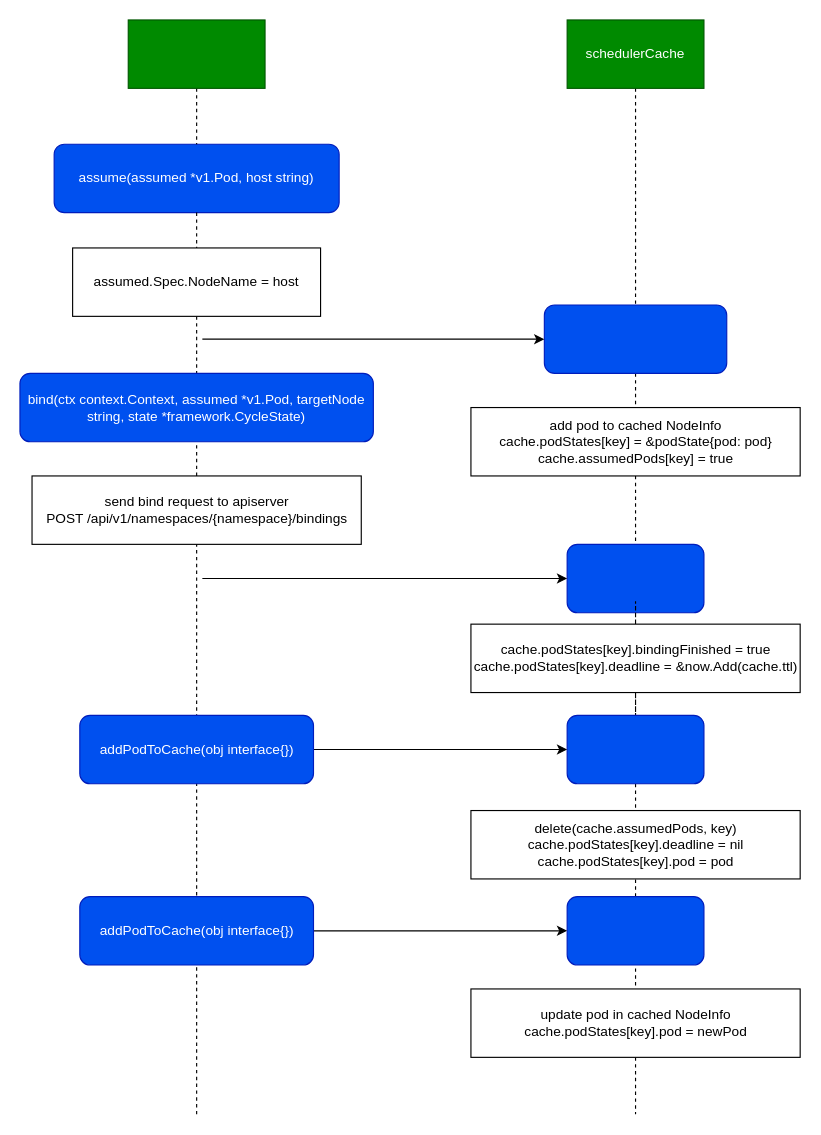
This 821x1135 diagram has some shape labels left out. The shapes that lost their labels are listed below. From the top down, each one's box as (x1, y1, x2, y2) in pixels, then its label:
(127, 19, 265, 88): Scheduler
(543, 304, 727, 373): AssumePod(pod *v1.Pod)
(566, 543, 704, 613): FinishBinding
(566, 714, 704, 784): AddPod
(566, 895, 704, 965): UpdatePod
